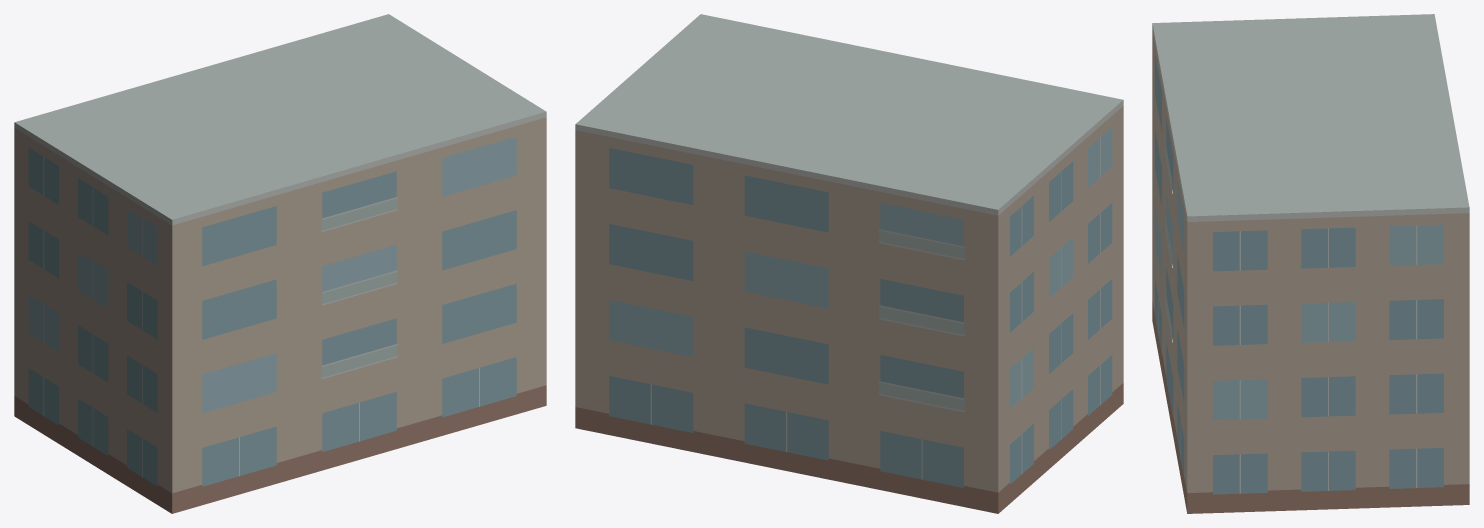
The model's file is survey-upis-32755822.glb.
3 views of the same model, side by side, from view 1: azimuth 30°, elevation 25°; view 2: azimuth 150°, elevation 25°; view 3: azimuth 270°, elevation 25° (orthographic). The views are drawn at different scales.
Parts seen in each view (by area): view 1: survey-upis-32755822.tmp; view 2: survey-upis-32755822.tmp; view 3: survey-upis-32755822.tmp.
Part boxes in pixels (x1,y1,x2,y2): survey-upis-32755822.tmp: (14, 14, 546, 513); survey-upis-32755822.tmp: (575, 14, 1123, 513); survey-upis-32755822.tmp: (1152, 14, 1469, 513).
Size of the model in its own units: 18.62 by 12.75 by 12.33.
